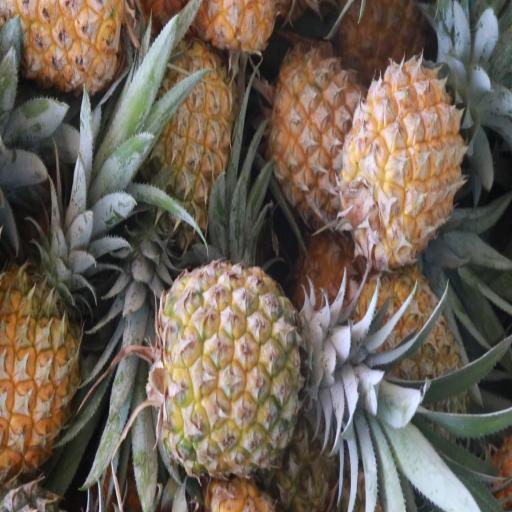------------------------------: (157, 266, 309, 472), (351, 275, 466, 445), (270, 53, 365, 233)
Pineapple - v8 v1: (343, 60, 462, 262), (0, 268, 81, 482), (153, 48, 237, 247), (0, 0, 123, 97)
